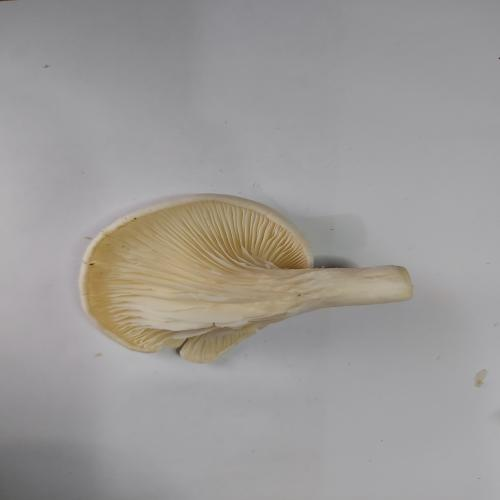Oyster Mushroom: (78, 192, 414, 364)
